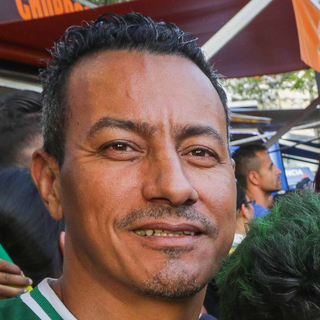eye: (95, 132, 147, 164), (179, 138, 227, 172)
